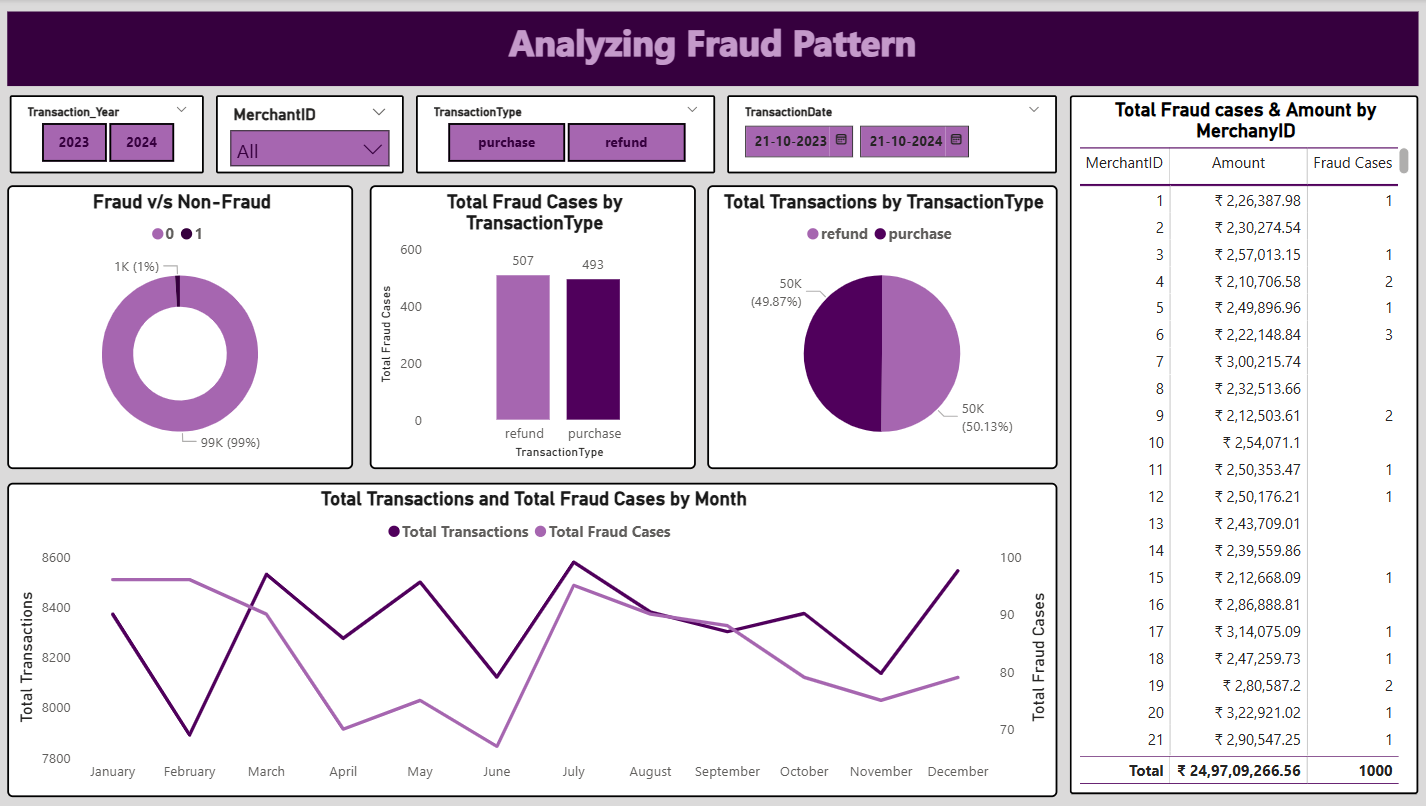

The dashboard page shown, as its layout file describes it:
{"tool":"powerbi","page":{"name":"Page 2","canvas":[1280,720],"ordinal":1},"visuals":[{"type":"lineChart","fields":{"Category":["credit_card_fraud_dataset.TransactionDate.Variation.Date Hierarchy.Year","credit_card_fraud_dataset.TransactionDate.Variation.Date Hierarchy.Quarter","credit_card_fraud_dataset.TransactionDate.Variation.Date Hierarchy.Month","credit_card_fraud_dataset.TransactionDate.Variation.Date Hierarchy.Day"],"Y":["credit_card_fraud_dataset.Total Transactions"],"Y2":["credit_card_fraud_dataset.Total Fraud Cases"]},"box":[9.8,430.7,935,279.8],"z":0},{"type":"clusteredColumnChart","fields":{"Category":["credit_card_fraud_dataset.TransactionType"],"Y":["credit_card_fraud_dataset.Total Fraud Cases"]},"box":[332.5,165.6,290.8,252.8],"z":1000},{"type":"donutChart","title":"Fraud v/s Non-Fraud","fields":{"Category":["credit_card_fraud_dataset.IsFraud"],"Y":["CountNonNull(credit_card_fraud_dataset.TransactionID)"]},"box":[9.8,165.6,308,252.8],"z":2000},{"type":"pieChart","title":"Total Transactions by TransactionType","fields":{"Category":["credit_card_fraud_dataset.TransactionType"],"Y":["credit_card_fraud_dataset.Total Transactions"]},"box":[633.1,165.6,311.7,252.8],"z":3000},{"type":"tableEx","title":"Total Fraud cases & Amount by MerchanyID","fields":{"Values":["credit_card_fraud_dataset.MerchantID","Sum(credit_card_fraud_dataset.Amount)","credit_card_fraud_dataset.Total Fraud Cases"]},"box":[955.8,85.9,310.4,622.1],"z":4000},{"type":"slicer","fields":{"Values":["credit_card_fraud_dataset.TransactionType"]},"box":[374.2,85.9,266.3,69.9],"z":6000},{"type":"slicer","fields":{"Values":["credit_card_fraud_dataset.MerchantID"]},"box":[196.3,85.9,166.9,69.9],"z":7000},{"type":"slicer","fields":{"Values":["credit_card_fraud_dataset.Transaction_Year"]},"box":[12.3,85.9,173,69.9],"z":8000},{"type":"slicer","fields":{"Values":["credit_card_fraud_dataset.TransactionDate"]},"box":[651.5,85.9,293.3,69.9],"z":9000},{"type":"textbox","box":[9.8,11,1256.4,66.3],"z":9001}]}

Visuals, with their boxes in screenshot pixels (x1, y1, x2, y2), scaled from the page's 1280x720 canvas onto the 1426x806 screenshot:
lineChart - credit_card_fraud_dataset.TransactionDate.Variation.Date Hierarchy.Year x credit_card_fraud_dataset.TransactionDate.Variation.Date Hierarchy.Quarter: [11,482,1053,795]
clusteredColumnChart - credit_card_fraud_dataset.TransactionType x credit_card_fraud_dataset.Total Fraud Cases: [370,185,694,468]
"Fraud v/s Non-Fraud" donutChart: [11,185,354,468]
"Total Transactions by TransactionType" pieChart: [705,185,1053,468]
"Total Fraud cases & Amount by MerchanyID" tableEx: [1065,96,1411,793]
slicer - credit_card_fraud_dataset.TransactionType: [417,96,714,174]
slicer - credit_card_fraud_dataset.MerchantID: [219,96,405,174]
slicer - credit_card_fraud_dataset.Transaction_Year: [14,96,206,174]
slicer - credit_card_fraud_dataset.TransactionDate: [726,96,1053,174]
textbox: [11,12,1411,87]
